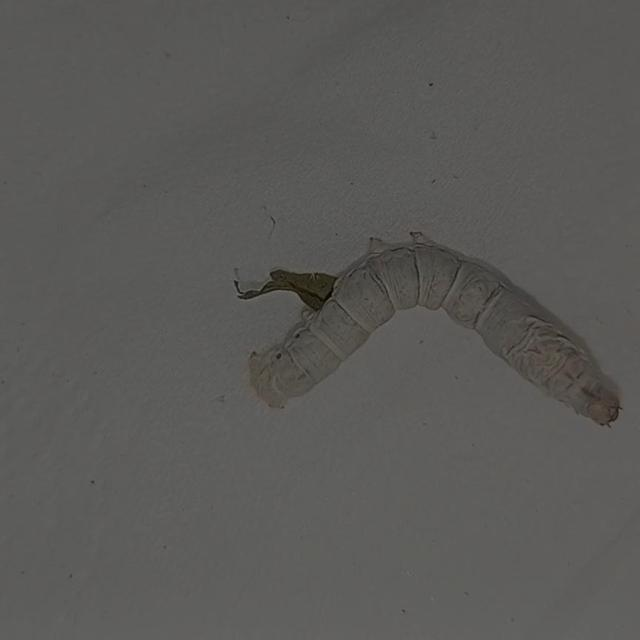Healthy: (242, 224, 621, 434)
